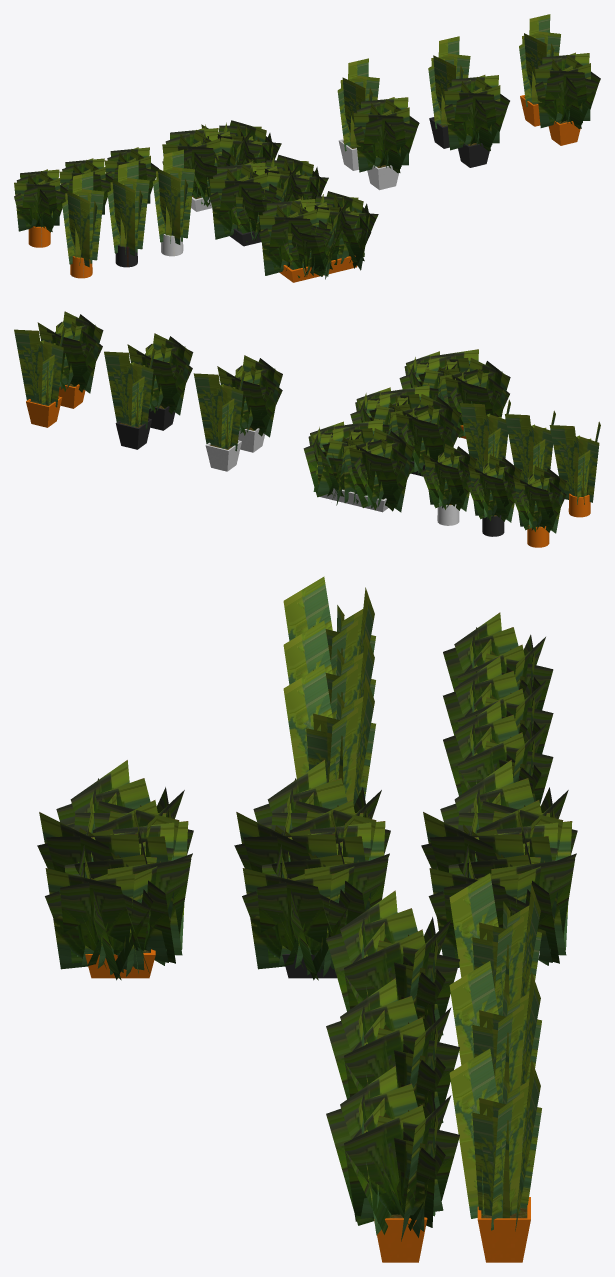
Rendered from plant_accents.glb.
The picture shows the model from 3 angles, top to bottom: view 1: azimuth 30°, elevation 25°; view 2: azimuth 150°, elevation 25°; view 3: azimuth 270°, elevation 25°; orthographic projection. The views are drawn at different scales.
Parts seen in each view (by area): view 1: Pot_8, Pot_7, Pot_3, Pot_13, Pot_14, Pot_12, Pot_11, Pot_10, Pot_9, Pot_2, Pot_5, Pot_6 (+3 smaller); view 2: Pot_3, Pot_7, Pot_8, Pot_6, Pot_4, Pot_5, Pot_13, Pot_12, Pot_14, Pot_11, Pot_2, Pot (+3 smaller); view 3: Pot_8, Pot_7, Pot_3, Pot_14, Pot_6, Pot_13, Pot_12, Pot_9, Pot_4, Pot_5, Pot, Pot_2 (+3 smaller).
Boxes of the visible parts, x1,y1,x2,y2 form: Pot_8: (259, 191, 378, 282); Pot_7: (209, 154, 328, 246); Pot_3: (162, 120, 281, 211); Pot_13: (444, 75, 509, 167); Pot_14: (535, 52, 600, 145); Pot_12: (353, 97, 419, 190); Pot_11: (62, 172, 104, 278); Pot_10: (107, 160, 149, 267); Pot_9: (152, 149, 194, 256); Pot_2: (14, 169, 68, 247); Pot_5: (428, 36, 470, 148); Pot_6: (519, 14, 560, 126); Pot_3: (303, 419, 414, 512); Pot_7: (350, 385, 461, 476); Pot_8: (399, 349, 510, 438); Pot_6: (14, 326, 65, 427); Pot_4: (193, 370, 244, 471); Pot_5: (104, 348, 154, 449); Pot_13: (127, 333, 193, 430); Pot_12: (217, 355, 282, 452); Pot_14: (37, 311, 103, 408); Pot_11: (549, 421, 600, 517); Pot_2: (511, 466, 566, 547); Pot: (421, 444, 476, 525); Pot_8: (37, 760, 193, 980); Pot_7: (234, 759, 390, 980); Pot_3: (421, 760, 577, 967); Pot_14: (326, 1066, 459, 1262); Pot_6: (449, 1048, 541, 1262); Pot_13: (326, 978, 459, 1122); Pot_12: (326, 890, 459, 1035); Pot_9: (283, 664, 375, 806); Pot_4: (449, 873, 541, 1015); Pot_5: (449, 961, 541, 1103); Pot: (443, 700, 553, 804); Pot_2: (443, 612, 553, 710).
Size of the model in its own units: 12.24 by 2.07 by 5.21.
1 material, 1 textured.
